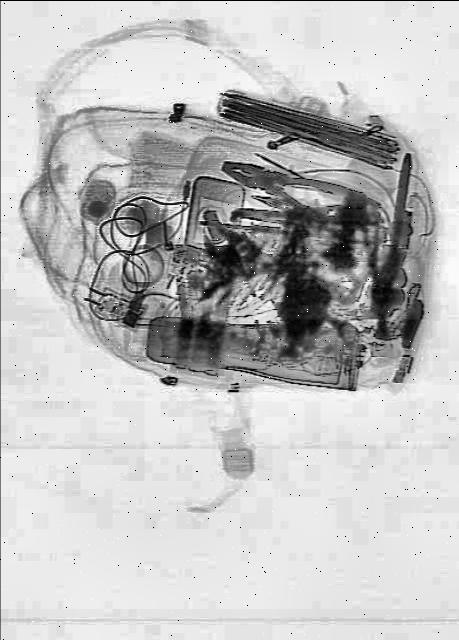Pliers: (216, 142, 380, 242)
